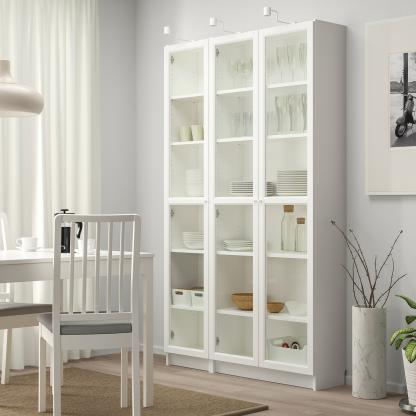lamp: (163, 20, 348, 392)
